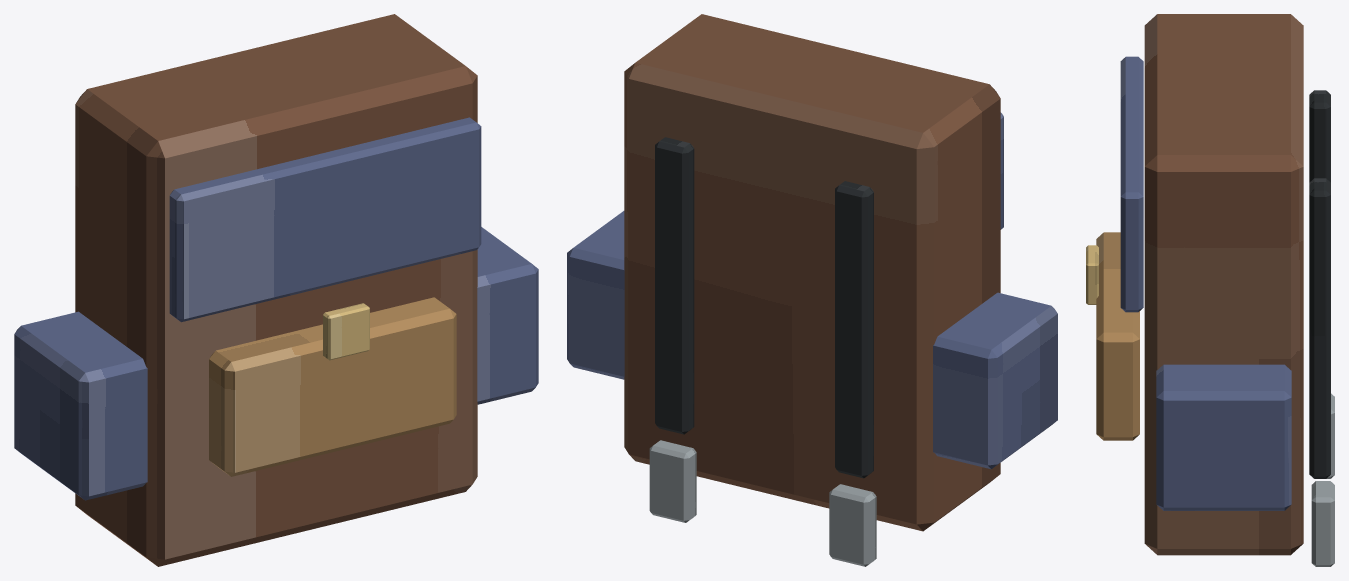
The model's file is backpack_medium.glb.
3 views of the same model, side by side, from view 1: azimuth 30°, elevation 25°; view 2: azimuth 150°, elevation 25°; view 3: azimuth 270°, elevation 25° (orthographic). The views are drawn at different scales.
Visible parts, largest first — view 1: PackBody, TopFlap, FrontPocket, SidePocket_-0.40599999999999997, SidePocket_0.40599999999999997, Buckle; view 2: PackBody, SidePocket_-0.40599999999999997, ShoulderStrap_0.20299999999999999, ShoulderStrap_-0.20299999999999999, SidePocket_0.40599999999999997, StrapAnchor_-0.20299999999999999, StrapAnchor_0.20299999999999999; view 3: PackBody, SidePocket_0.40599999999999997, FrontPocket, ShoulderStrap_0.20299999999999999, TopFlap, StrapAnchor_0.20299999999999999, ShoulderStrap_-0.20299999999999999, Buckle, StrapAnchor_-0.20299999999999999.
Part boxes in pixels (x1=…): PackBody: x1=75, y1=14, x2=477, y2=566; TopFlap: x1=169, y1=117, x2=481, y2=322; FrontPocket: x1=209, y1=297, x2=456, y2=476; SidePocket_-0.40599999999999997: x1=14, y1=311, x2=147, y2=500; SidePocket_0.40599999999999997: x1=477, y1=227, x2=538, y2=404; Buckle: x1=323, y1=303, x2=369, y2=360; PackBody: x1=624, y1=14, x2=1000, y2=531; SidePocket_-0.40599999999999997: x1=933, y1=292, x2=1057, y2=469; ShoulderStrap_0.20299999999999999: x1=655, y1=137, x2=694, y2=434; ShoulderStrap_-0.20299999999999999: x1=835, y1=181, x2=873, y2=478; SidePocket_0.40599999999999997: x1=567, y1=211, x2=624, y2=379; StrapAnchor_-0.20299999999999999: x1=829, y1=484, x2=876, y2=566; StrapAnchor_0.20299999999999999: x1=649, y1=440, x2=696, y2=522; PackBody: x1=1144, y1=14, x2=1303, y2=555; SidePocket_0.40599999999999997: x1=1156, y1=364, x2=1291, y2=510; FrontPocket: x1=1096, y1=232, x2=1139, y2=440; ShoulderStrap_0.20299999999999999: x1=1309, y1=178, x2=1330, y2=478; TopFlap: x1=1120, y1=56, x2=1143, y2=312; StrapAnchor_0.20299999999999999: x1=1311, y1=481, x2=1334, y2=566; ShoulderStrap_-0.20299999999999999: x1=1309, y1=90, x2=1330, y2=182; Buckle: x1=1086, y1=245, x2=1098, y2=304; StrapAnchor_-0.20299999999999999: x1=1326, y1=393, x2=1334, y2=478.
Size of the model in its own units: 0.972 by 0.925 by 0.4844.
1 material, 1 textured.
